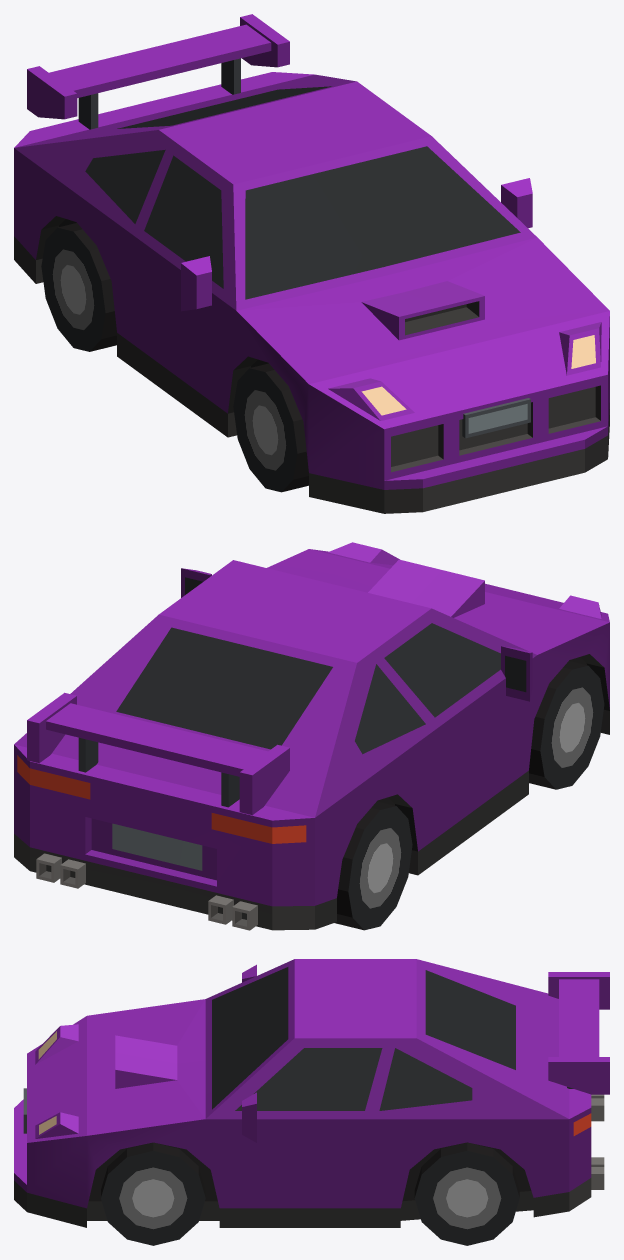
The model's file is street_car.dae.
3 renders of one model, top to bottom at view 1: azimuth 30°, elevation 25°; view 2: azimuth 150°, elevation 25°; view 3: azimuth 270°, elevation 25°, orthographic. The views are drawn at different scales.
Parts seen in each view (by area): view 1: SR_Veh_StreetCar_Purple, SR_Veh_Wheel_RR, SR_Veh_Wheel_FR; view 2: SR_Veh_StreetCar_Purple, SR_Veh_Wheel_RR, SR_Veh_Wheel_FR; view 3: SR_Veh_StreetCar_Purple, SR_Veh_Wheel_RL, SR_Veh_Wheel_FL.
Boxes of the visible parts, x1,y1,x2,y2 form: SR_Veh_StreetCar_Purple: (14,14,609,513); SR_Veh_Wheel_RR: (41,223,116,351); SR_Veh_Wheel_FR: (233,363,308,492); SR_Veh_StreetCar_Purple: (14,542,609,930); SR_Veh_Wheel_RR: (335,801,412,930); SR_Veh_Wheel_FR: (529,661,604,789); SR_Veh_StreetCar_Purple: (14,959,609,1227); SR_Veh_Wheel_RL: (414,1142,519,1245); SR_Veh_Wheel_FL: (101,1142,205,1245).
Size of the model in its own units: 0.8579 by 1.55 by 0.5345.
Materials: 1 (1 with a texture image).
